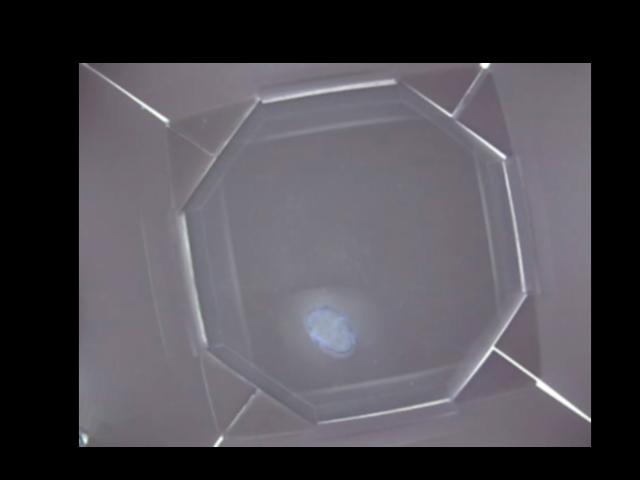Pebble: (304, 305, 355, 358)
